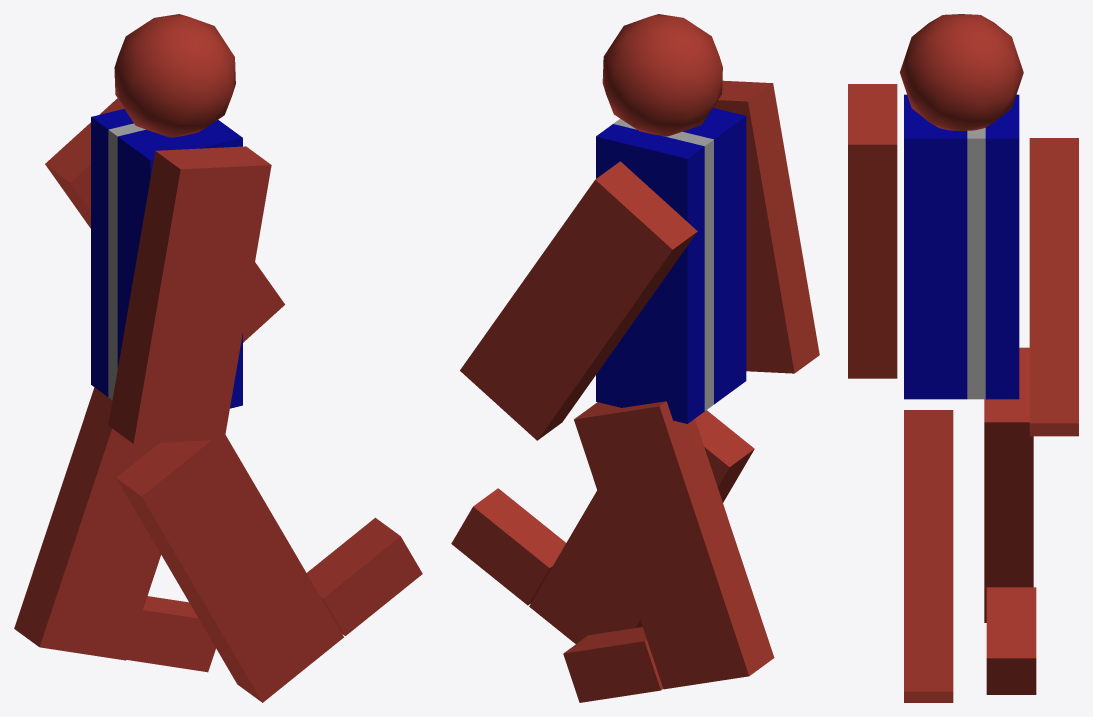
Rendered from player_000030.obj.
3 renders of one model, left to right at view 1: azimuth 30°, elevation 25°; view 2: azimuth 150°, elevation 25°; view 3: azimuth 270°, elevation 25°, orthographic. The views are drawn at different scales.
Visible parts, largest first — view 1: Cube.005, Cube.001, Cube.002, Cube, Icosphere, Cube.003, Cube.004, Cube.006; view 2: Cube.002, Cube, Cube.006, Cube.005, Icosphere, Cube.001, Cube.003, Cube.004; view 3: Cube, Cube.006, Cube.005, Cube.001, Icosphere, Cube.002, Cube.004, Cube.003.
Boxes of the visible parts, left/top/right/bottom form: Cube.005: left=108, top=146, right=271, bottom=443; Cube.001: left=116, top=435, right=343, bottom=702; Cube.002: left=14, top=387, right=160, bottom=660; Cube: left=91, top=109, right=242, bottom=408; Icosphere: left=114, top=14, right=235, bottom=137; Cube.003: left=307, top=517, right=422, bottom=635; Cube.004: left=126, top=596, right=215, bottom=672; Cube.006: left=45, top=98, right=284, bottom=342; Cube.002: left=574, top=401, right=774, bottom=689; Cube: left=596, top=108, right=746, bottom=423; Cube.006: left=460, top=161, right=697, bottom=440; Cube.005: left=713, top=80, right=819, bottom=373; Icosphere: left=602, top=14, right=722, bottom=136; Cube.001: left=529, top=410, right=754, bottom=643; Cube.003: left=451, top=488, right=565, bottom=605; Cube.004: left=563, top=627, right=663, bottom=702; Cube: left=904, top=94, right=1019, bottom=399; Cube.006: left=1029, top=138, right=1078, bottom=436; Cube.005: left=848, top=84, right=897, bottom=378; Cube.001: left=904, top=410, right=953, bottom=702; Icosphere: left=900, top=14, right=1023, bottom=130; Cube.002: left=984, top=347, right=1033, bottom=622; Cube.004: left=986, top=587, right=1036, bottom=694; Cube.003: left=904, top=639, right=953, bottom=696.
Bounding box in the file's own units: 1.52 × 2.87 × 0.9137.
